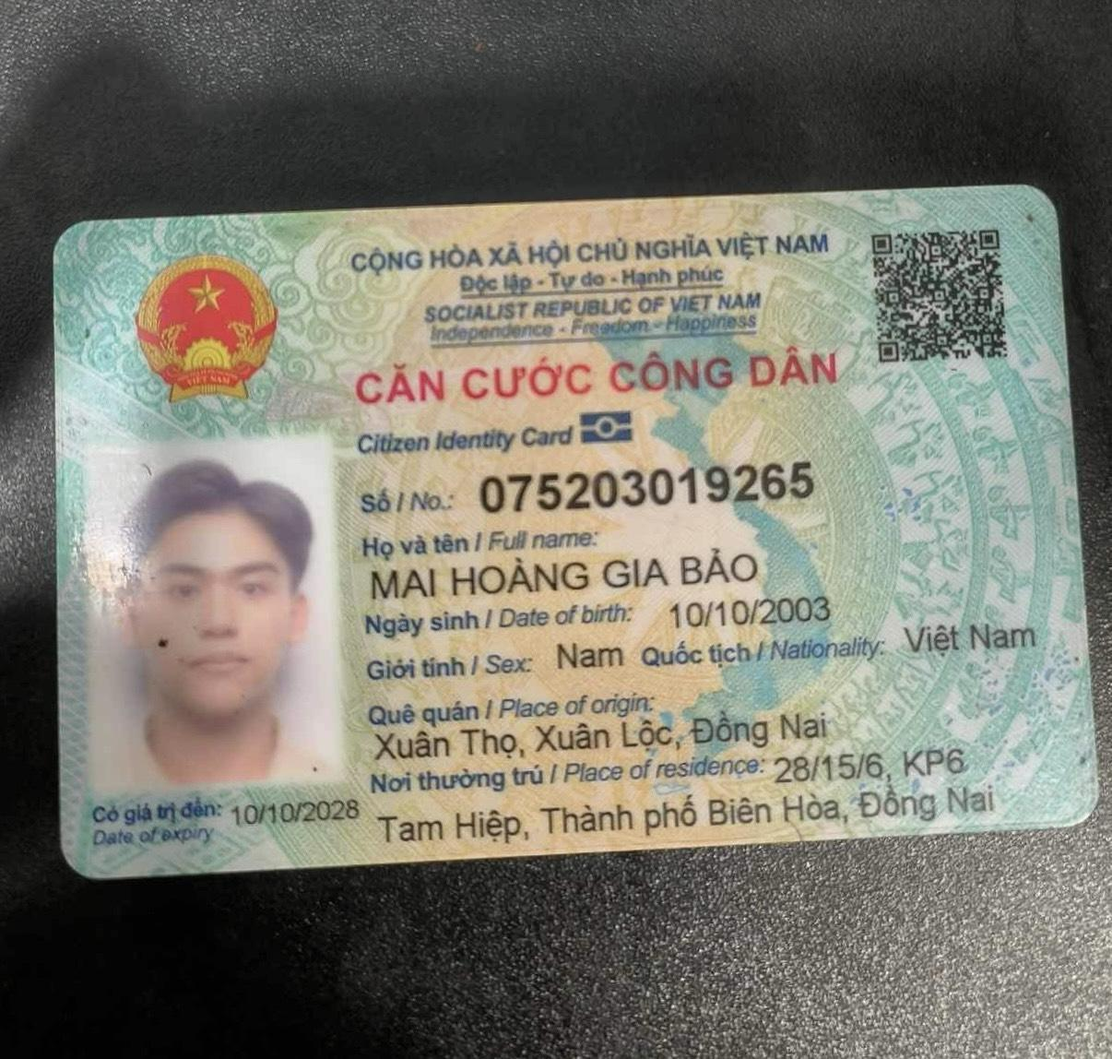ID: (468, 444, 825, 524)
birth: (660, 583, 836, 634)
name: (364, 539, 771, 608)
place: (365, 706, 837, 768)
residence: (371, 771, 1015, 854), (767, 738, 969, 794)
